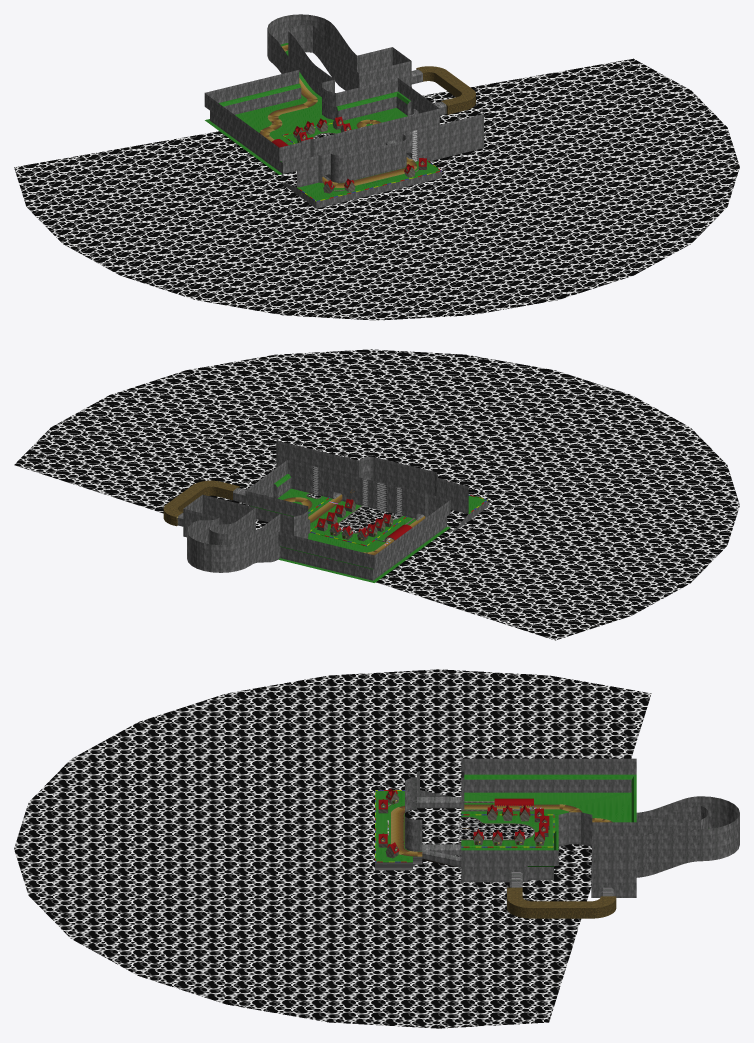
The picture shows the model from 3 angles, top to bottom: view 1: azimuth 30°, elevation 25°; view 2: azimuth 150°, elevation 25°; view 3: azimuth 270°, elevation 25°; orthographic projection. The views are drawn at different scales.
Parts seen in each view (by area): view 1: water, rock, Grass.001, Road.002, Wall1, wall, No7; view 2: water, rock, Grass.001, Wall1, waterFall, wall, No7, Road.002; view 3: water, rock, Grass.001, Wall1, wall, Road.002, No7.
Boxes of the visible parts, x1,y1,x2,y2 form: water: [14, 58, 739, 320]; rock: [204, 14, 483, 208]; Grass.001: [205, 43, 439, 200]; Road.002: [259, 45, 417, 187]; Wall1: [416, 66, 475, 114]; wall: [293, 119, 427, 193]; No7: [272, 116, 426, 189]; water: [14, 349, 739, 640]; rock: [177, 440, 488, 580]; Grass.001: [250, 474, 486, 582]; Wall1: [163, 480, 239, 526]; waterFall: [313, 456, 402, 515]; wall: [306, 493, 415, 542]; No7: [317, 499, 411, 540]; Road.002: [283, 494, 425, 555]; water: [14, 669, 651, 1028]; rock: [375, 758, 739, 897]; Grass.001: [375, 774, 636, 866]; Wall1: [507, 887, 616, 918]; wall: [378, 792, 549, 858]; Road.002: [391, 804, 613, 856]; No7: [378, 788, 549, 853].
Size of the model in its own units: 200000 by 15510 by 170777.
25 materials, 25 textured.
